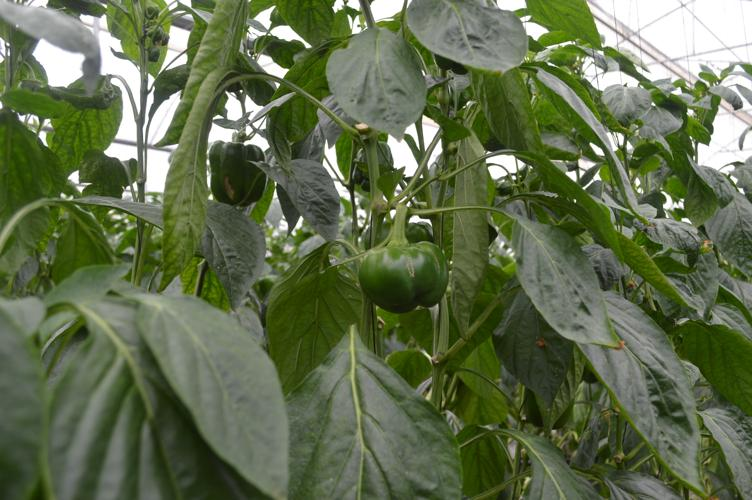BellPepper: (350, 227, 459, 313), (190, 131, 279, 213)
